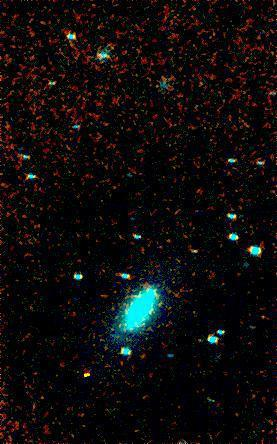star: (72, 356, 102, 386)
